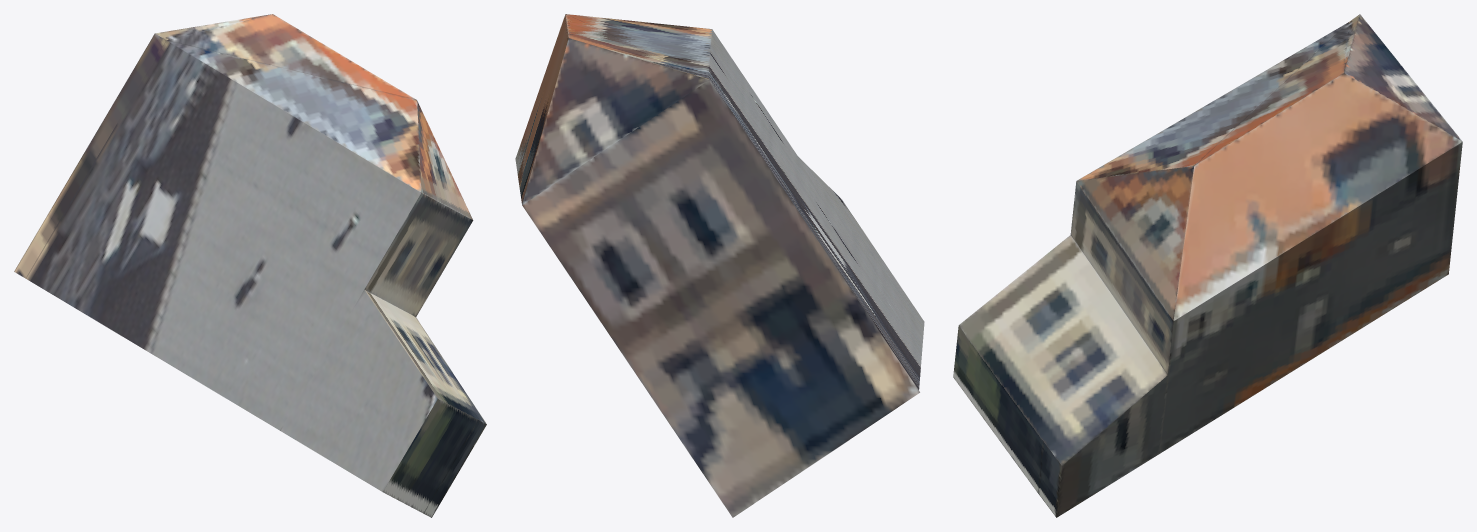
3 views of the same model, side by side, from view 1: azimuth 30°, elevation 25°; view 2: azimuth 150°, elevation 25°; view 3: azimuth 270°, elevation 25° (orthographic). The views are drawn at different scales.
Visible parts, largest first — view 1: BAG_0599100000650093 (×4); view 2: BAG_0599100000650093 (×3); view 3: BAG_0599100000650093 (×4).
Boxes of the visible parts, box(x1,y1,x2,y2) form: BAG_0599100000650093 (×4): box(14, 14, 486, 517); BAG_0599100000650093 (×3): box(515, 14, 924, 517); BAG_0599100000650093 (×4): box(953, 14, 1462, 517).
Size of the model in its own units: 12.85 by 13.39 by 14.21.
Materials: 4 (4 with a texture image).
